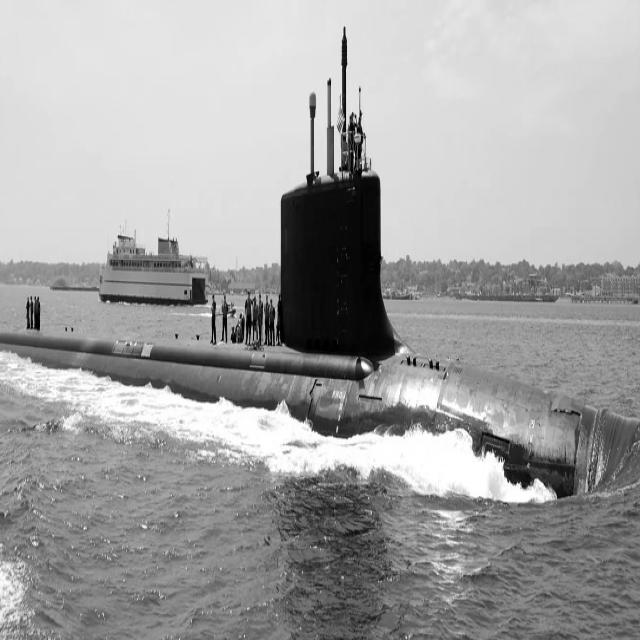submarine: (1, 9, 640, 509)
